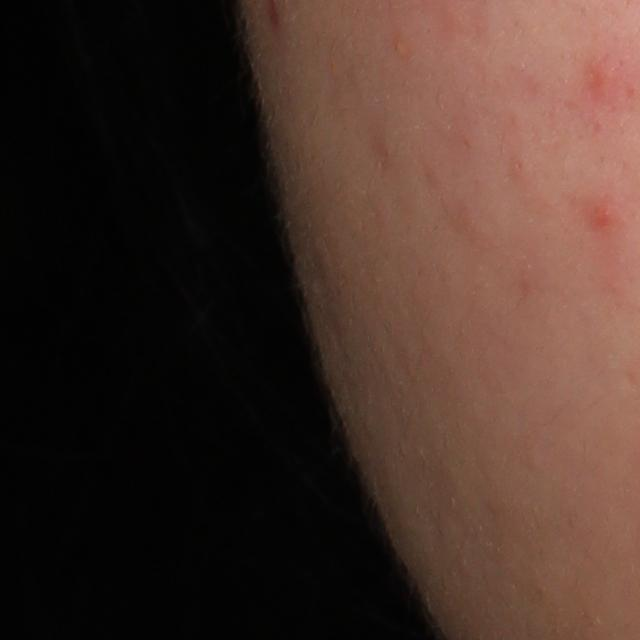papule: (579, 55, 624, 104), (588, 198, 619, 237)
